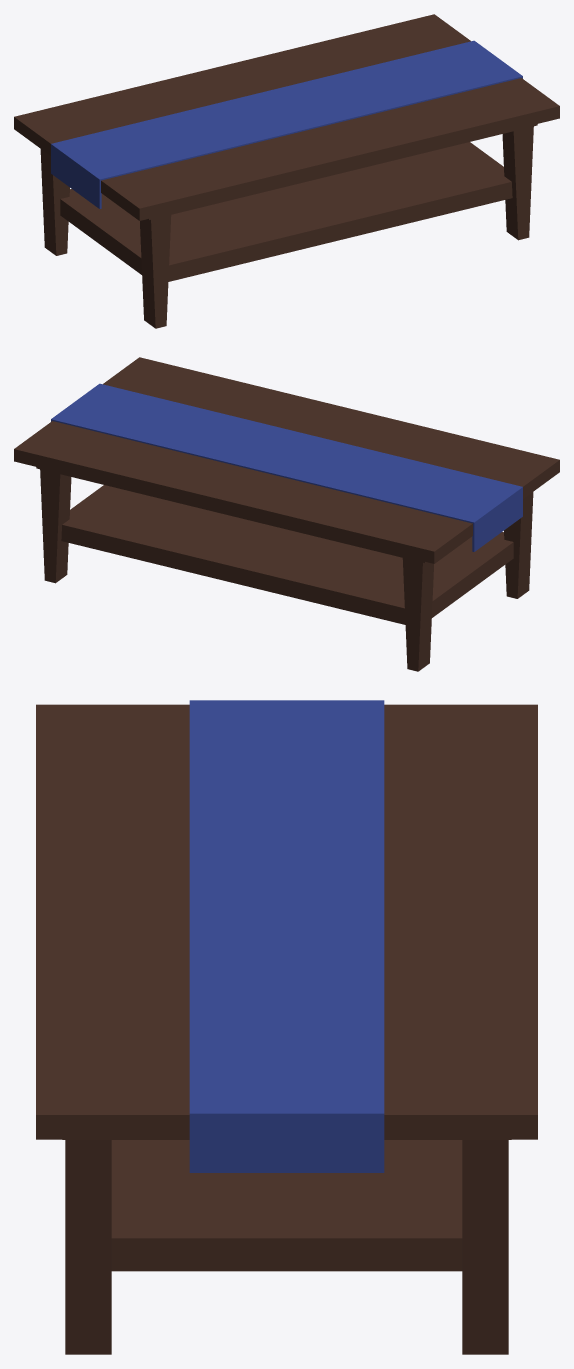
Rendered from CoffeeTable_04.fbx.
3 views of the same model, one above another, from view 1: azimuth 30°, elevation 25°; view 2: azimuth 150°, elevation 25°; view 3: azimuth 270°, elevation 25° (orthographic). The views are drawn at different scales.
Visible parts, largest first — view 1: CoffeeTable_04; view 2: CoffeeTable_04; view 3: CoffeeTable_04.
Part boxes in pixels (bbox=[...]): CoffeeTable_04: bbox=[14, 14, 559, 328]; CoffeeTable_04: bbox=[14, 357, 559, 671]; CoffeeTable_04: bbox=[36, 700, 537, 1354].
Size of the model in its own units: 1.2 by 0.3585 by 0.6153.
